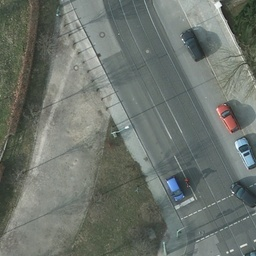car: (180, 29, 205, 61), (229, 183, 256, 209), (215, 104, 240, 131), (234, 138, 255, 170), (164, 176, 186, 201)
